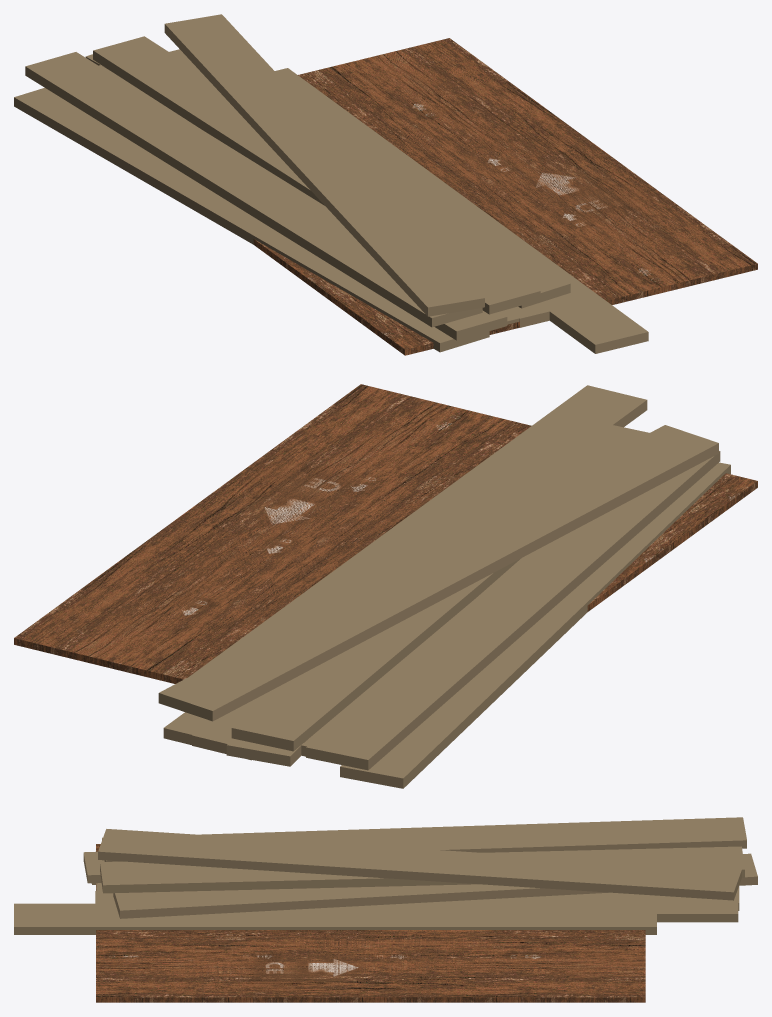
Rendered from woods.fbx.
The picture shows the model from 3 angles, top to bottom: view 1: azimuth 30°, elevation 25°; view 2: azimuth 150°, elevation 25°; view 3: azimuth 270°, elevation 25°; orthographic projection. The views are drawn at different scales.
Visible parts, largest first — view 1: planks, woodboard, single_plank; view 2: planks, woodboard, single_plank; view 3: planks, woodboard, single_plank.
Boxes of the visible parts, x1,y1,x2,y2 form: planks: [14, 14, 648, 353]; woodboard: [253, 38, 757, 355]; single_plank: [169, 49, 561, 327]; planks: [158, 385, 730, 788]; woodboard: [14, 384, 757, 683]; single_plank: [163, 431, 580, 744]; planks: [14, 817, 757, 934]; woodboard: [96, 844, 645, 1002]; single_plank: [95, 891, 738, 922].
Bounding box in the file's own units: 286 × 25.75 × 528.
